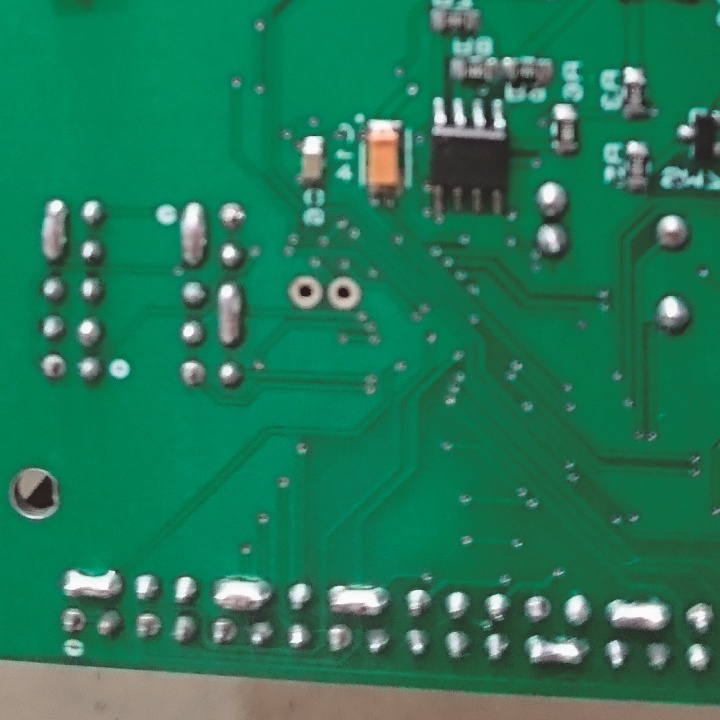F: (284, 273, 323, 311), (324, 273, 359, 313), (684, 600, 717, 632), (207, 618, 241, 648), (217, 199, 247, 232), (524, 592, 553, 624), (325, 623, 352, 655), (135, 612, 162, 643), (37, 352, 67, 378), (61, 609, 88, 637), (179, 357, 204, 386)
P: (604, 595, 675, 632), (212, 575, 276, 612), (61, 566, 124, 601), (39, 198, 70, 267), (327, 584, 386, 618), (178, 200, 207, 269), (524, 635, 586, 666), (214, 278, 242, 346)
